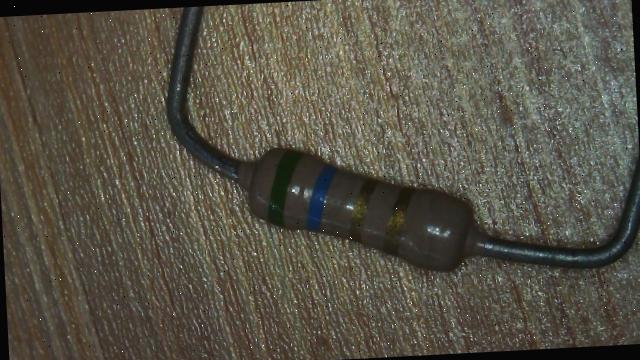blue: (304, 164, 339, 231)
gold: (381, 187, 416, 253), (346, 178, 380, 241)
green: (264, 150, 304, 228)
resistor: (205, 111, 505, 300)
